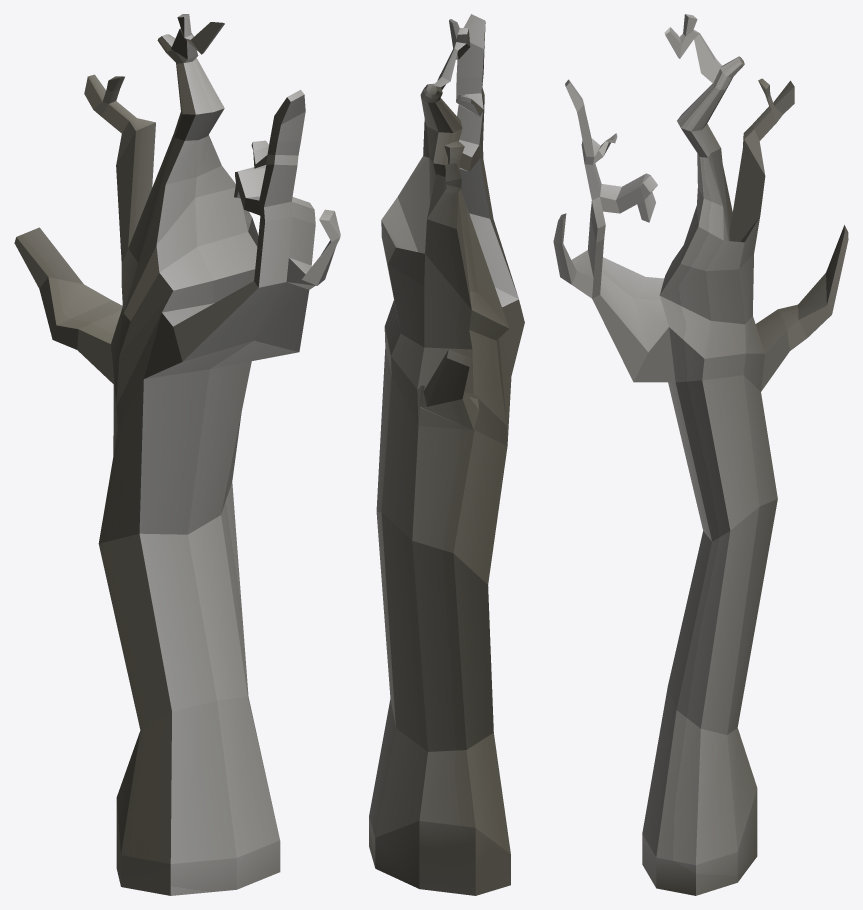
Rendered from spookyTree3.fbx.
The picture shows the model from 3 angles, left to right: view 1: azimuth 30°, elevation 25°; view 2: azimuth 150°, elevation 25°; view 3: azimuth 270°, elevation 25°; orthographic projection. The views are drawn at different scales.
Parts seen in each view (by area): view 1: spooky tree.003; view 2: spooky tree.003; view 3: spooky tree.003.
Boxes of the visible parts, x1,y1,x2,y2 form: spooky tree.003: [14, 14, 340, 895]; spooky tree.003: [369, 14, 524, 895]; spooky tree.003: [553, 14, 848, 895].
Bounding box in the file's own units: 805 × 3640 × 1164.
